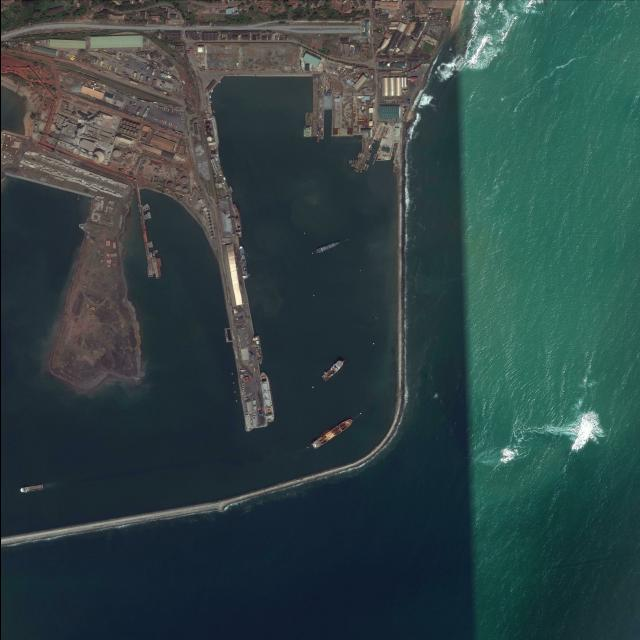ship: (309, 416, 354, 450), (258, 371, 275, 423), (319, 357, 345, 382), (237, 244, 248, 279), (231, 203, 242, 238), (252, 334, 262, 366), (315, 241, 339, 254), (19, 484, 43, 493), (303, 112, 311, 137), (148, 252, 154, 275), (152, 257, 158, 279), (353, 168, 361, 174), (351, 159, 356, 168), (349, 159, 354, 168), (146, 211, 151, 219), (144, 203, 149, 211), (157, 257, 161, 267), (361, 162, 366, 170), (364, 164, 369, 172), (365, 152, 370, 160), (155, 258, 159, 267), (157, 267, 160, 277), (141, 206, 145, 212), (356, 152, 360, 158), (149, 241, 152, 248), (143, 205, 147, 210), (147, 242, 150, 248), (145, 213, 148, 219), (151, 251, 154, 256), (372, 153, 375, 158), (143, 215, 146, 219), (349, 159, 351, 164), (210, 90, 213, 93), (218, 81, 220, 84), (209, 100, 211, 103), (208, 95, 210, 98), (348, 160, 349, 164)
storage-tank: (92, 149, 105, 164), (112, 149, 121, 157), (180, 177, 187, 184), (204, 122, 210, 129), (206, 136, 212, 142), (205, 129, 211, 135), (166, 182, 172, 188), (121, 119, 126, 124), (182, 188, 187, 193), (175, 185, 180, 190), (125, 120, 129, 125), (204, 211, 209, 215), (128, 121, 132, 126), (205, 218, 210, 222), (126, 153, 131, 157), (132, 132, 137, 136), (207, 228, 212, 232), (135, 124, 140, 128), (132, 122, 136, 127), (124, 125, 128, 129), (121, 124, 125, 128), (153, 176, 157, 180), (125, 130, 129, 134), (204, 215, 209, 218), (208, 236, 213, 239), (206, 225, 211, 228), (205, 222, 210, 225), (207, 232, 212, 235), (118, 128, 122, 131), (122, 129, 125, 133), (129, 131, 132, 135), (128, 127, 131, 130), (211, 158, 214, 160), (132, 128, 134, 131), (213, 164, 215, 166), (212, 160, 214, 162), (214, 167, 217, 168), (214, 166, 216, 167), (213, 169, 214, 171), (215, 169, 217, 170), (210, 162, 212, 163), (212, 162, 214, 163), (214, 172, 216, 173), (212, 166, 213, 168), (210, 161, 212, 162), (211, 165, 213, 166), (213, 163, 214, 164), (215, 174, 216, 175), (214, 171, 215, 172), (213, 168, 214, 169), (211, 164, 212, 165), (210, 160, 211, 161)
